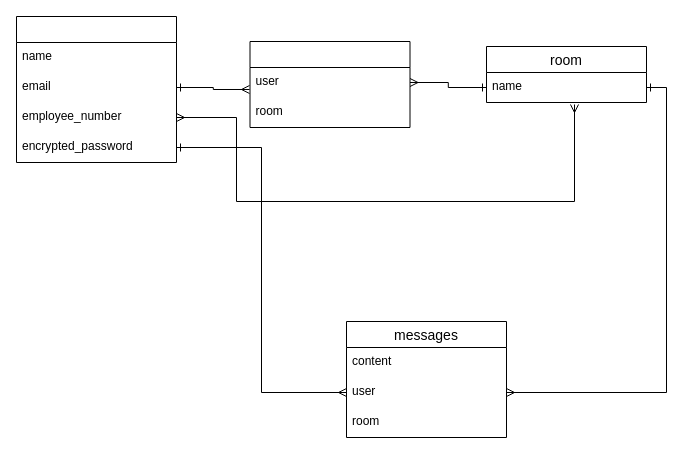
The diagram is 683 pixels wide and 454 high, and some of its shapes have lost their labels. The shapes that lost their labels are listed below. From the top down, each one's box as (x1, y1, x2, y2) in pixels, then its label:
(16, 16, 176, 162): users
(249, 40, 410, 128): room_users
